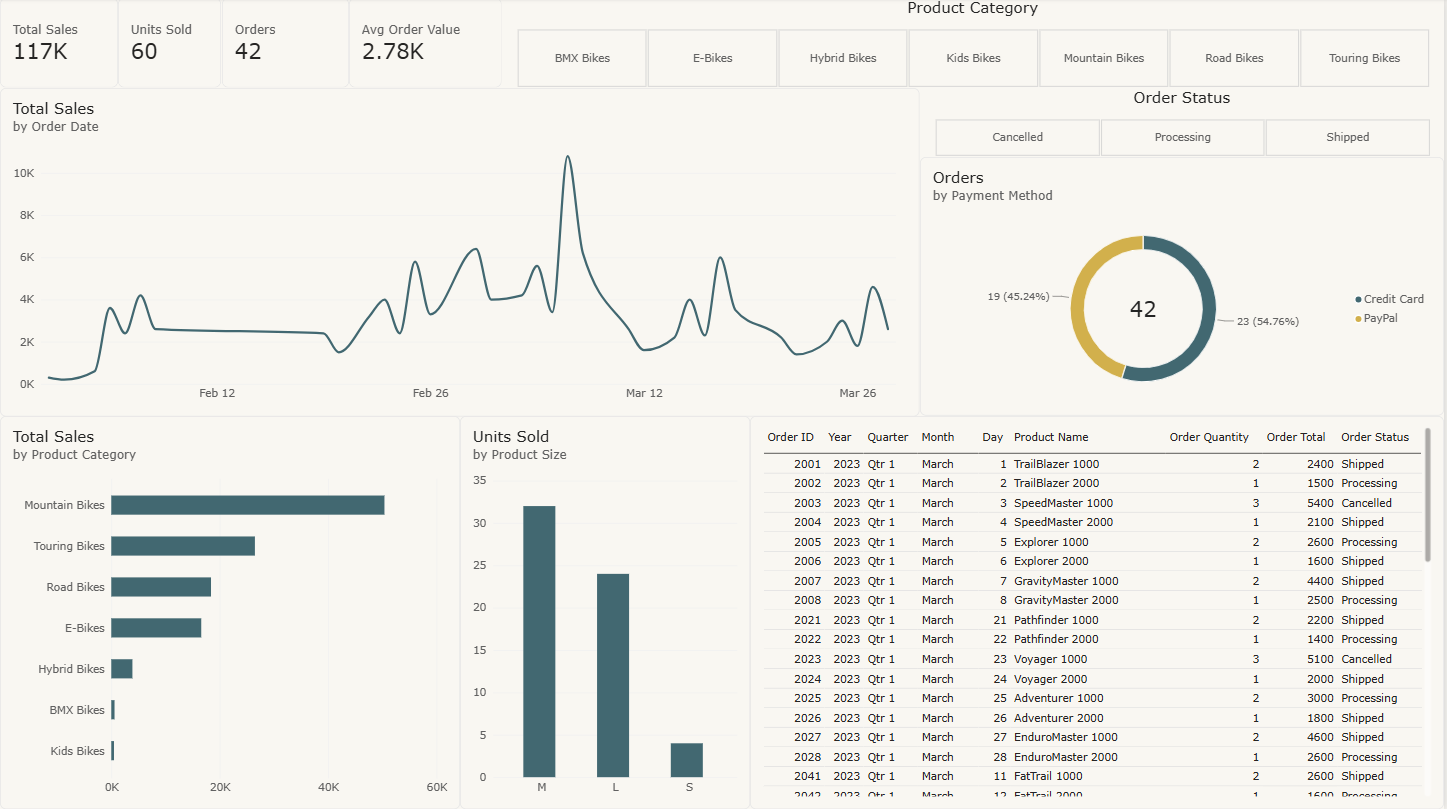

The page's visual inventory and layout, read from the dashboard file:
{"tool":"powerbi","page":{"name":"Page 1","canvas":[1920,1080],"ordinal":0},"visuals":[{"type":"cardVisual","fields":{"Data":["Sales_clean.Units Sold"]},"box":[157.6,0,137.1,119.6],"z":2},{"type":"cardVisual","fields":{"Data":["Sales_clean.Total Sales"]},"box":[0,0,157.6,119.6],"z":3},{"type":"cardVisual","fields":{"Data":["Sales_clean.Orders"]},"box":[294.7,0,169.2,119.6],"z":4},{"type":"cardVisual","fields":{"Data":["Sales_clean.Avg Order Value"]},"box":[464.2,0,203.8,119.8],"z":5},{"type":"donutChart","fields":{"Category":["Sales_clean.Payment Method"],"Y":["Sales_clean.Orders"]},"box":[1223.1,212.1,696.9,344.3],"z":7},{"type":"clusteredBarChart","fields":{"Category":["Sales_clean.Product Category"],"Y":["Sales_clean.Total Sales"]},"box":[0,556.4,611.5,523.4],"z":8},{"type":"clusteredColumnChart","fields":{"Category":["Sales_clean.Product Size"],"Y":["Sales_clean.Units Sold"]},"box":[611.5,556.4,385.7,523.4],"z":9},{"type":"slicer","title":"Product Category","fields":{"Values":["Sales_clean.Product Category"]},"box":[668,0,1252,119.8],"z":10},{"type":"slicer","title":"Order Status","fields":{"Values":["Sales_clean.Order Status"]},"box":[1223.1,119.8,696.9,92.3],"z":11},{"type":"tableEx","fields":{"Values":["Sales_clean.Order ID","Sales_clean.Order Date.Variation.Date Hierarchy.Year","Sales_clean.Order Date.Variation.Date Hierarchy.Quarter","Sales_clean.Order Date.Variation.Date Hierarchy.Month","Sales_clean.Order Date.Variation.Date Hierarchy.Day","Sales_clean.Product Name","Sales_clean.Order Quantity","Sales_clean.Order Total","Sales_clean.Order Status"]},"box":[997.2,556.4,922.8,523.4],"z":12},{"type":"lineChart","fields":{"Category":["Sales_clean.Order Date"],"Y":["Sales_clean.Total Sales"]},"box":[0,119.8,1223.1,436.6],"z":13}]}

Visuals, with their boxes in screenshot pixels (x1, y1, x2, y2), scaled from the page's 1920x1080 canvas onto the 1447x809 screenshot:
cardVisual - Sales_clean.Units Sold: bbox=(119, 0, 222, 90)
cardVisual - Sales_clean.Total Sales: bbox=(0, 0, 119, 90)
cardVisual - Sales_clean.Orders: bbox=(222, 0, 350, 90)
cardVisual - Sales_clean.Avg Order Value: bbox=(350, 0, 503, 90)
donutChart - Sales_clean.Payment Method x Sales_clean.Orders: bbox=(922, 159, 1446, 417)
clusteredBarChart - Sales_clean.Product Category x Sales_clean.Total Sales: bbox=(0, 417, 461, 808)
clusteredColumnChart - Sales_clean.Product Size x Sales_clean.Units Sold: bbox=(461, 417, 752, 808)
"Product Category" slicer: bbox=(503, 0, 1446, 90)
"Order Status" slicer: bbox=(922, 90, 1446, 159)
tableEx - Sales_clean.Order ID x Sales_clean.Order Date.Variation.Date Hierarchy.Year: bbox=(752, 417, 1446, 808)
lineChart - Sales_clean.Order Date x Sales_clean.Total Sales: bbox=(0, 90, 922, 417)
